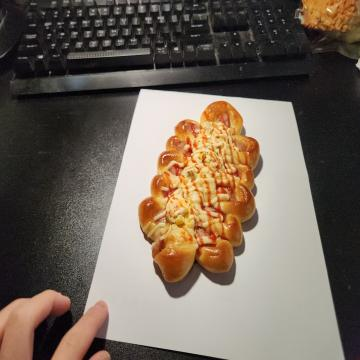pizza_bread: (138, 102, 261, 284)
